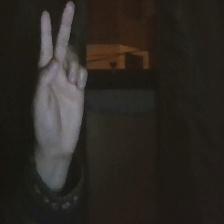K: (26, 1, 96, 172)
